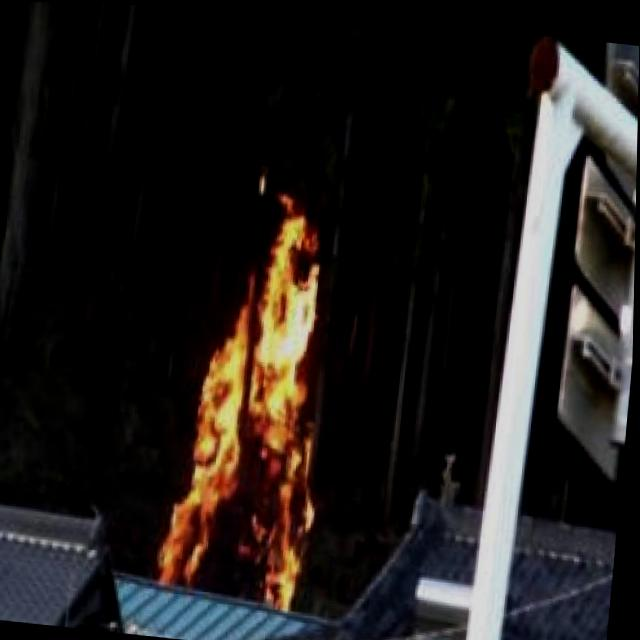helmet: (161, 199, 345, 619)
